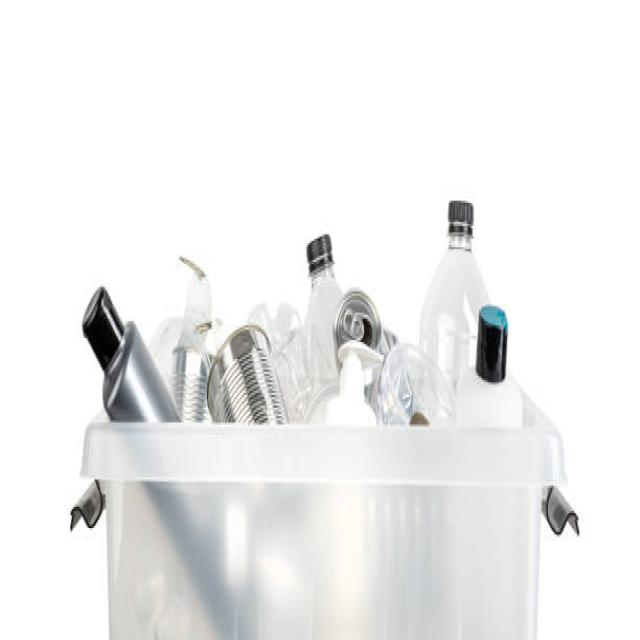plastic: (284, 212, 501, 404)
